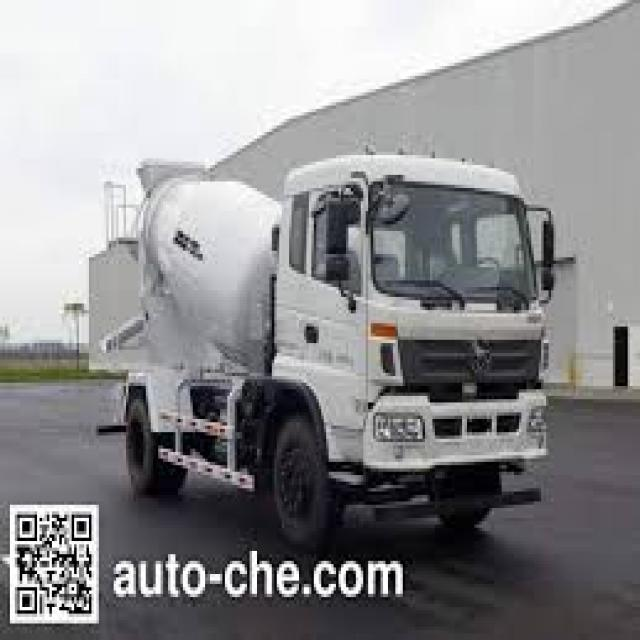Mixer Truck: (98, 156, 557, 561)
